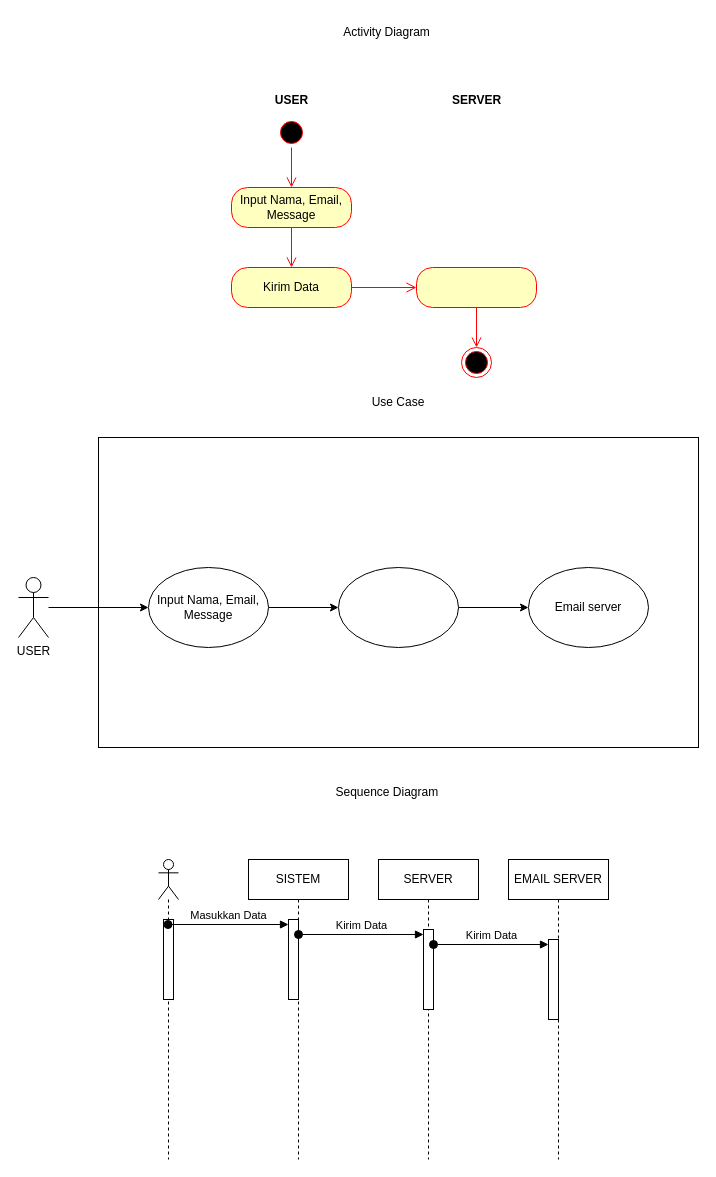
Image size: 716x1177. Some labels were removed from this diagram. The centre of each missing label's shape, as x and y in pixels:
"Kirim data ke email server" belongs at point 476,287.
"Kirim Data Ke Server" belongs at point 398,607.
